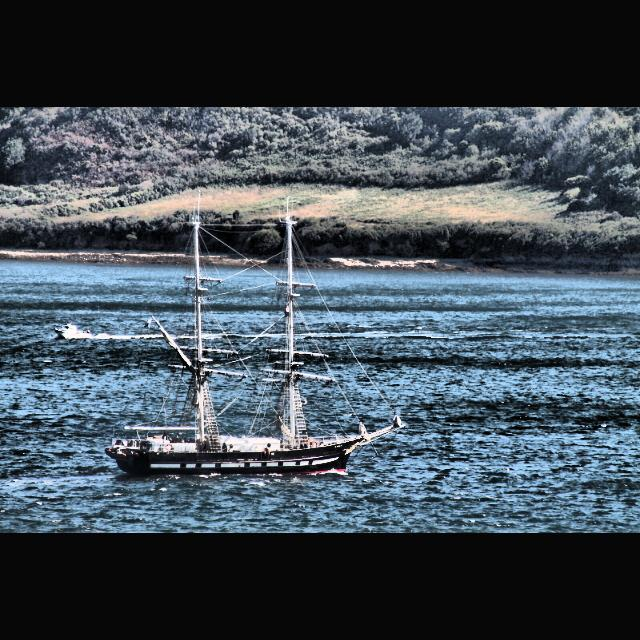sailing_vessel: (104, 188, 406, 478)
